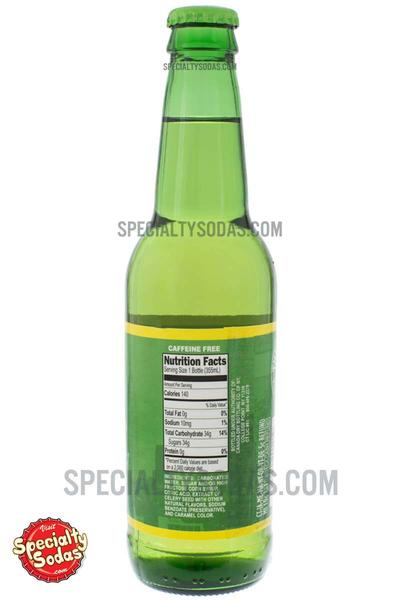Rec_Glass: (115, 3, 298, 590)
